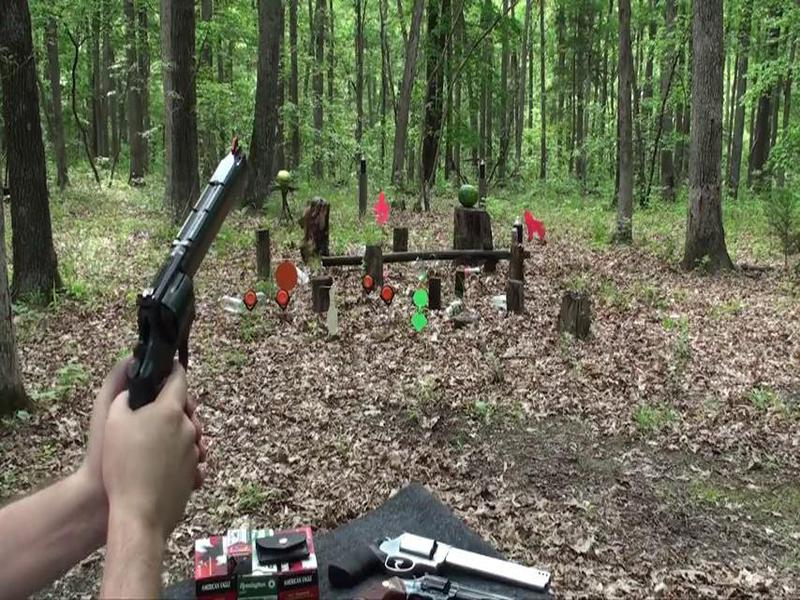Revolver: (105, 140, 264, 435)
